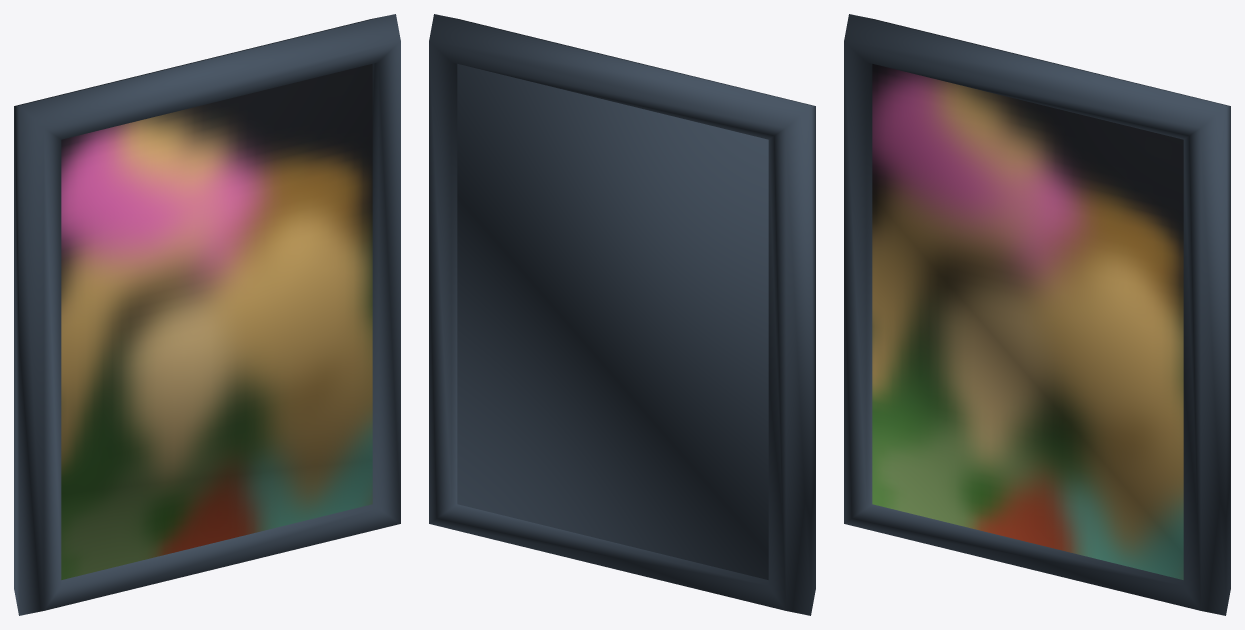
Rendered from PictureFightClub_everywhere_v1.fbx.
3 renders of one model, left to right at view 1: azimuth 30°, elevation 25°; view 2: azimuth 150°, elevation 25°; view 3: azimuth 330°, elevation 25°, orthographic.
Parts seen in each view (by area): view 1: Cube.001, Cube; view 2: Cube.001, Cube; view 3: Cube.001, Cube.
Part boxes in pixels (left/top/right/bottom): Cube.001: left=61, top=64, right=372, bottom=579; Cube: left=14, top=14, right=400, bottom=615; Cube.001: left=457, top=64, right=768, bottom=579; Cube: left=429, top=14, right=815, bottom=615; Cube.001: left=872, top=64, right=1183, bottom=579; Cube: left=844, top=14, right=1230, bottom=615.
Size of the model in its own units: 64.4 by 83.27 by 8.83.
